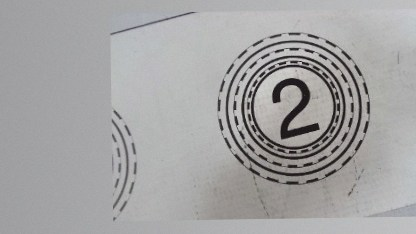2r: (213, 30, 373, 186)
